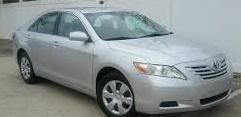Cars: (14, 9, 231, 117)
